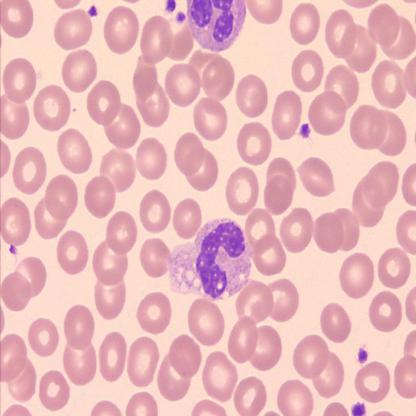Band Neutrophil: (168, 214, 254, 302)
